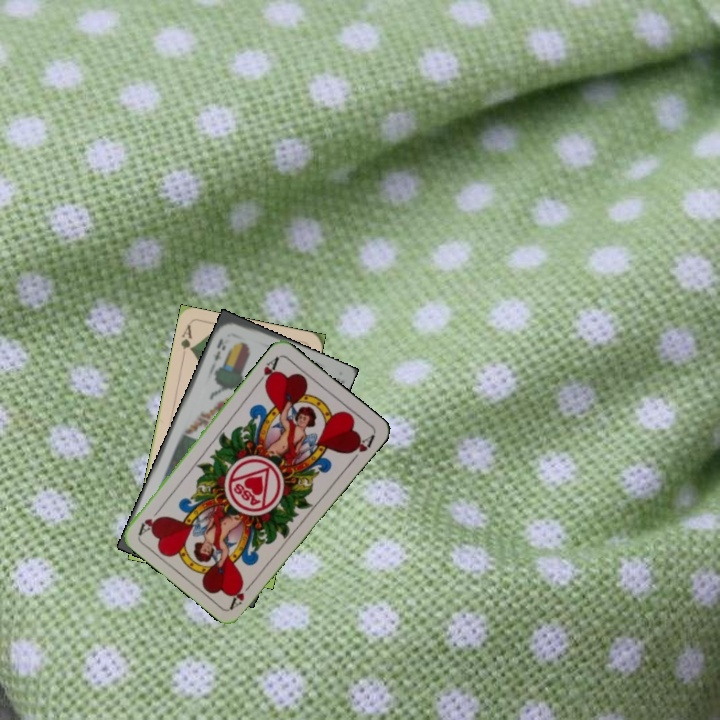EK: (209, 335, 228, 363)
GA: (177, 321, 195, 354)
HA: (226, 577, 257, 611), (252, 353, 282, 388)
